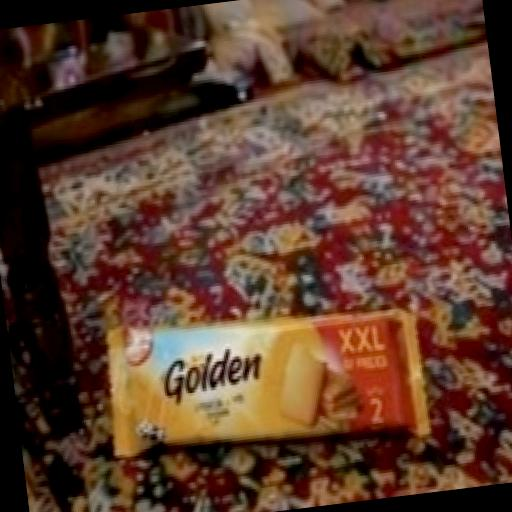golden: (70, 237, 468, 512)
